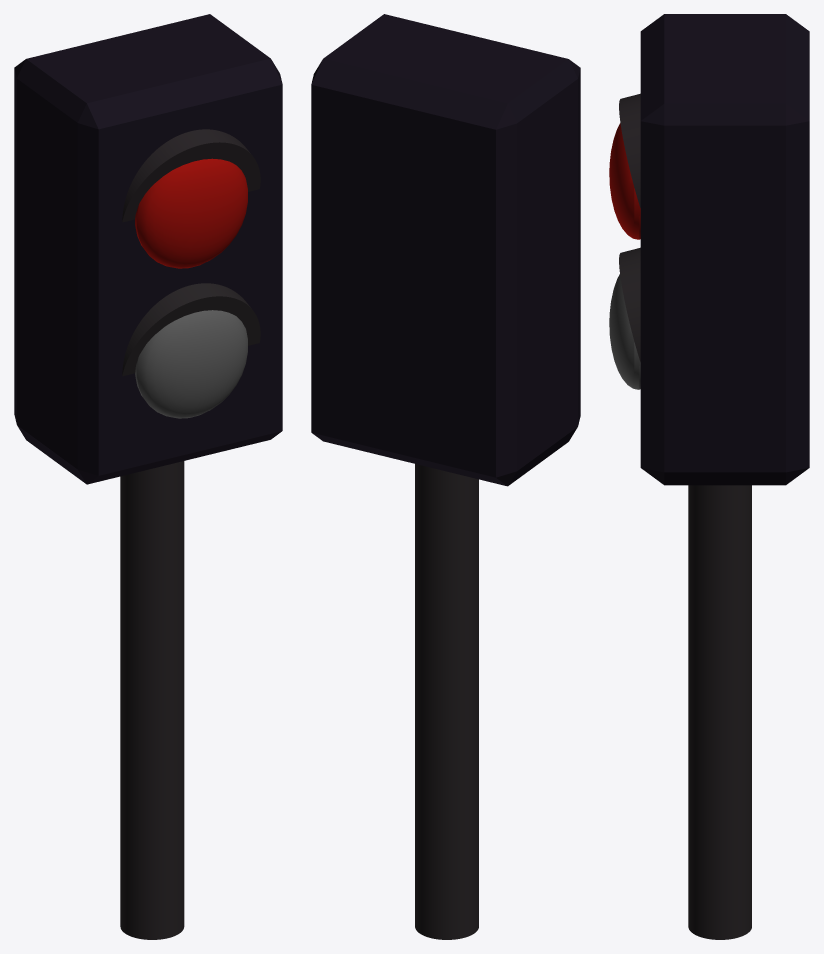
File: trafficLight.glb
3 renders of one model, left to right at view 1: azimuth 30°, elevation 25°; view 2: azimuth 150°, elevation 25°; view 3: azimuth 270°, elevation 25°, orthographic.
Visible parts, largest first — view 1: Cube; view 2: Cube; view 3: Cube.
Boxes of the visible parts, x1,y1,x2,y2 form: Cube: (14, 14, 282, 939); Cube: (311, 14, 580, 939); Cube: (609, 14, 809, 939).
Bounding box in the file's own units: 0.9729 × 3.98 × 0.8327.
